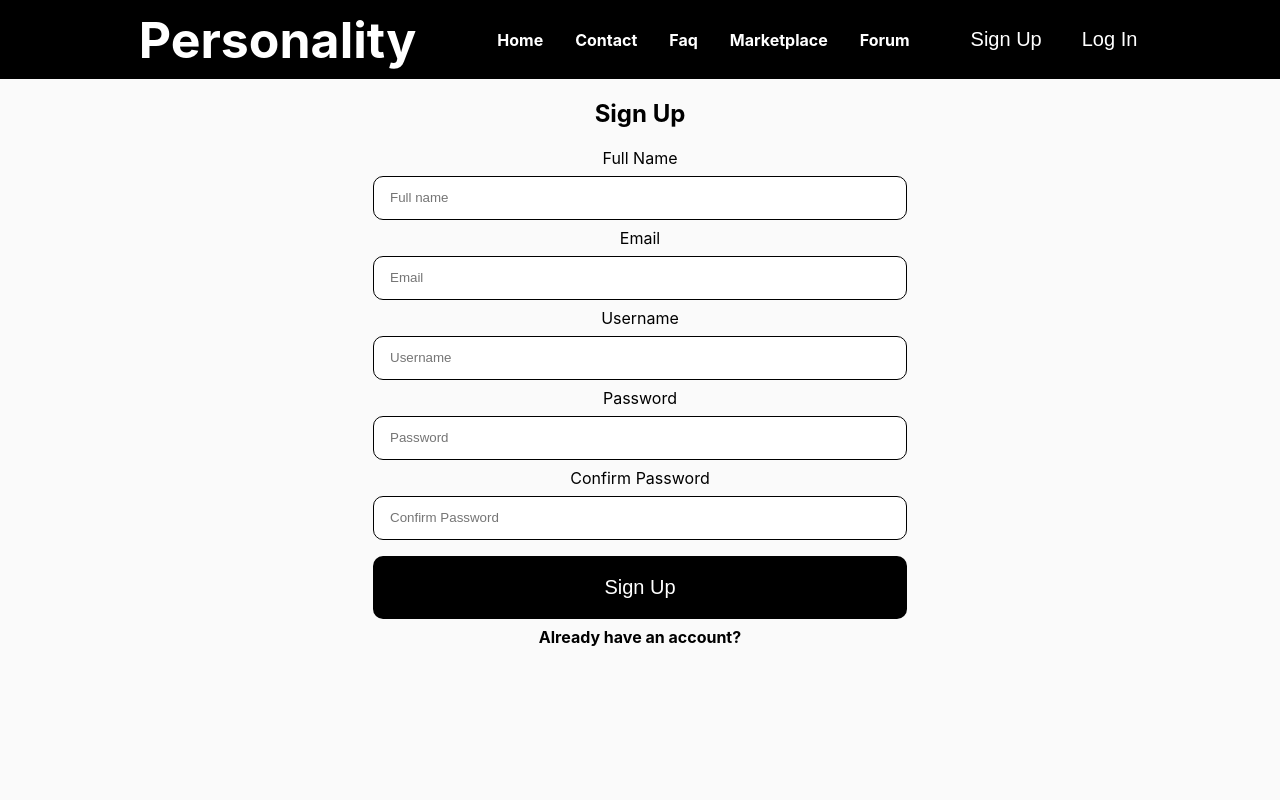
it: Cannot submit username that is too short
Type "John Jefferson II" into the field with test id "signup-fullname" at (640,198), box [373,176,907,220]
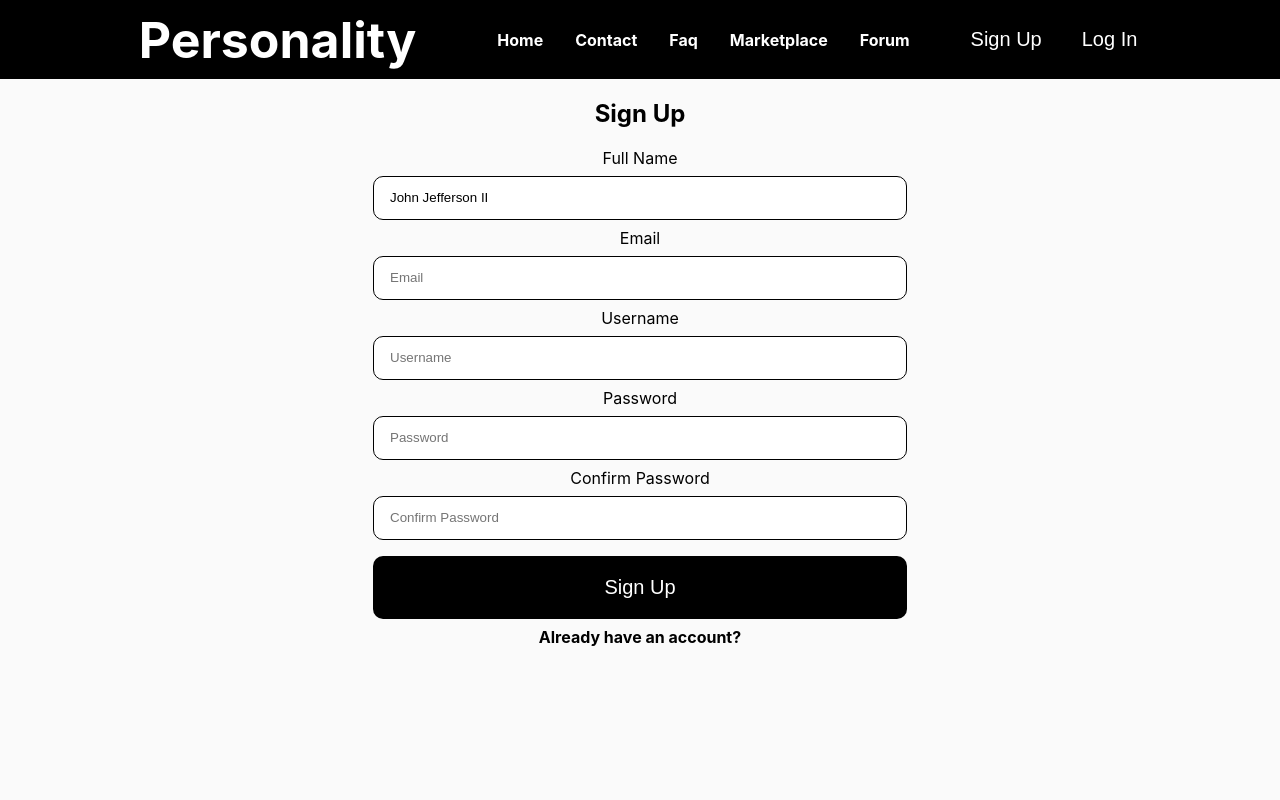
Type "jjettas2@gmail.com" into the field with test id "signup-email" at (640,278), box [373,256,907,300]
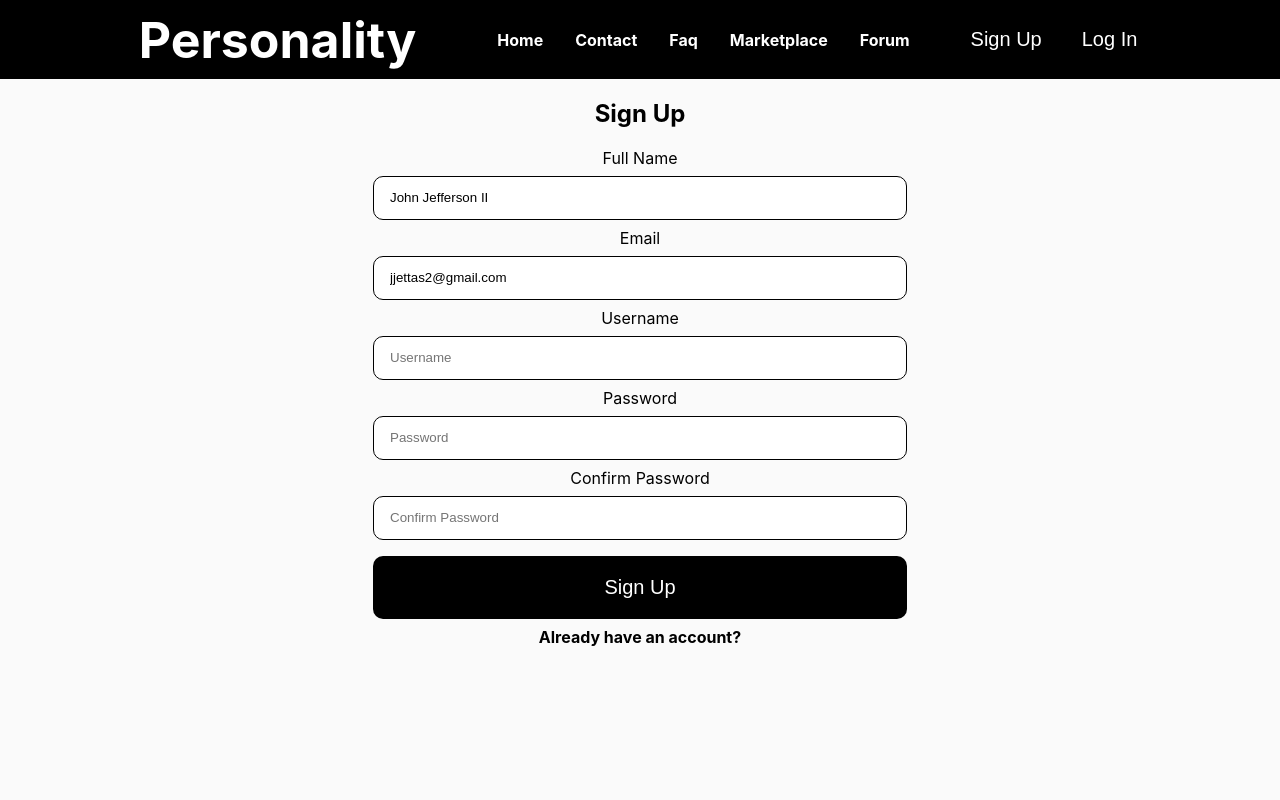
Type "john" into the field with test id "signup-username" at (640,358), box [373,336,907,380]
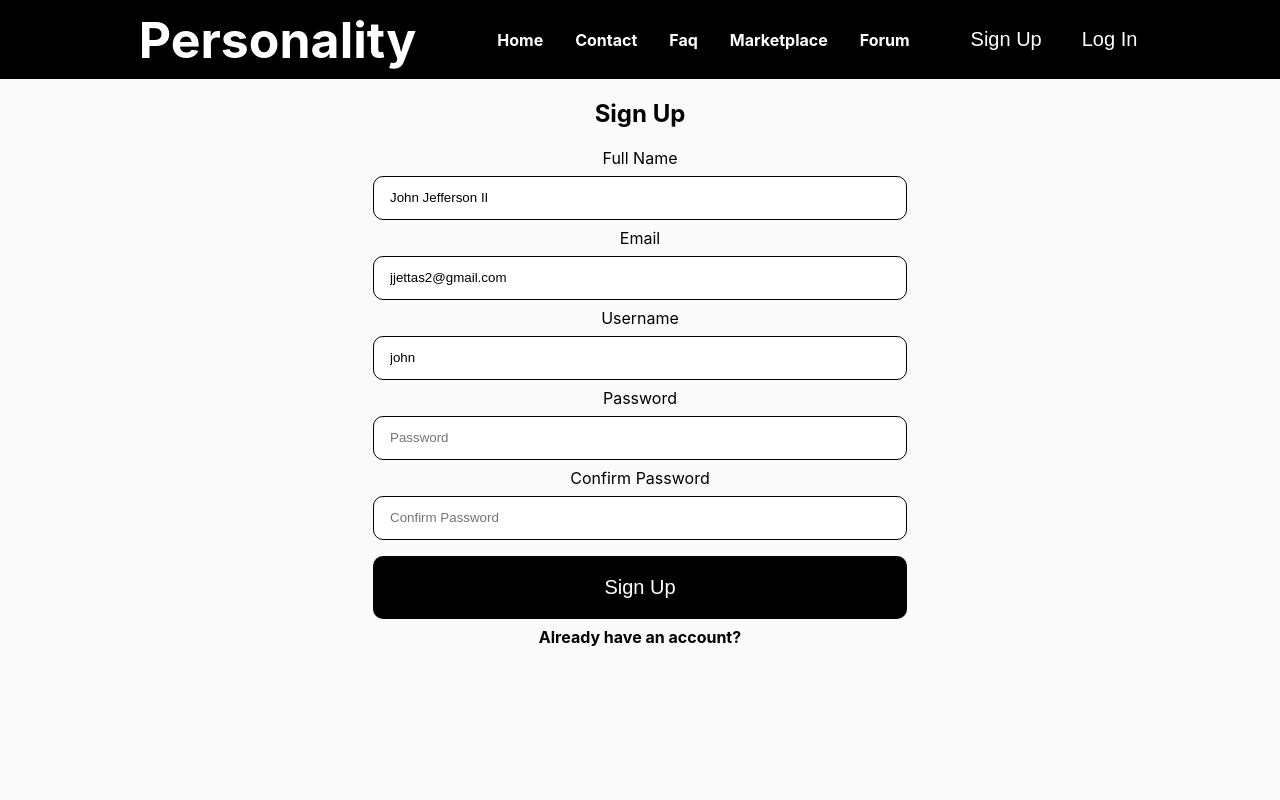
Type "Schwarzkopf23" into the password field with test id "signup-password" at (640,438), box [373,416,907,460]
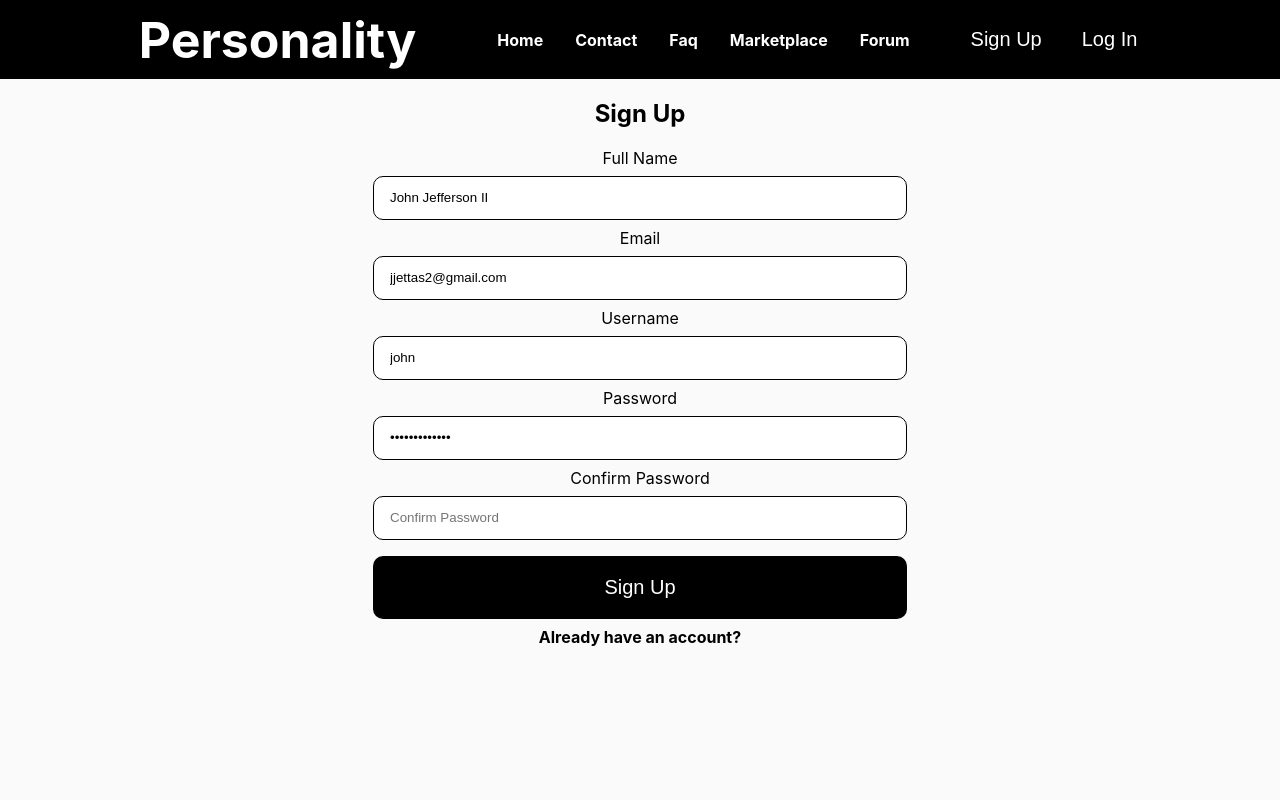
Type "Schwarzkopf23" into the password field with test id "signup-confirmpass" at (640,518), box [373,496,907,540]
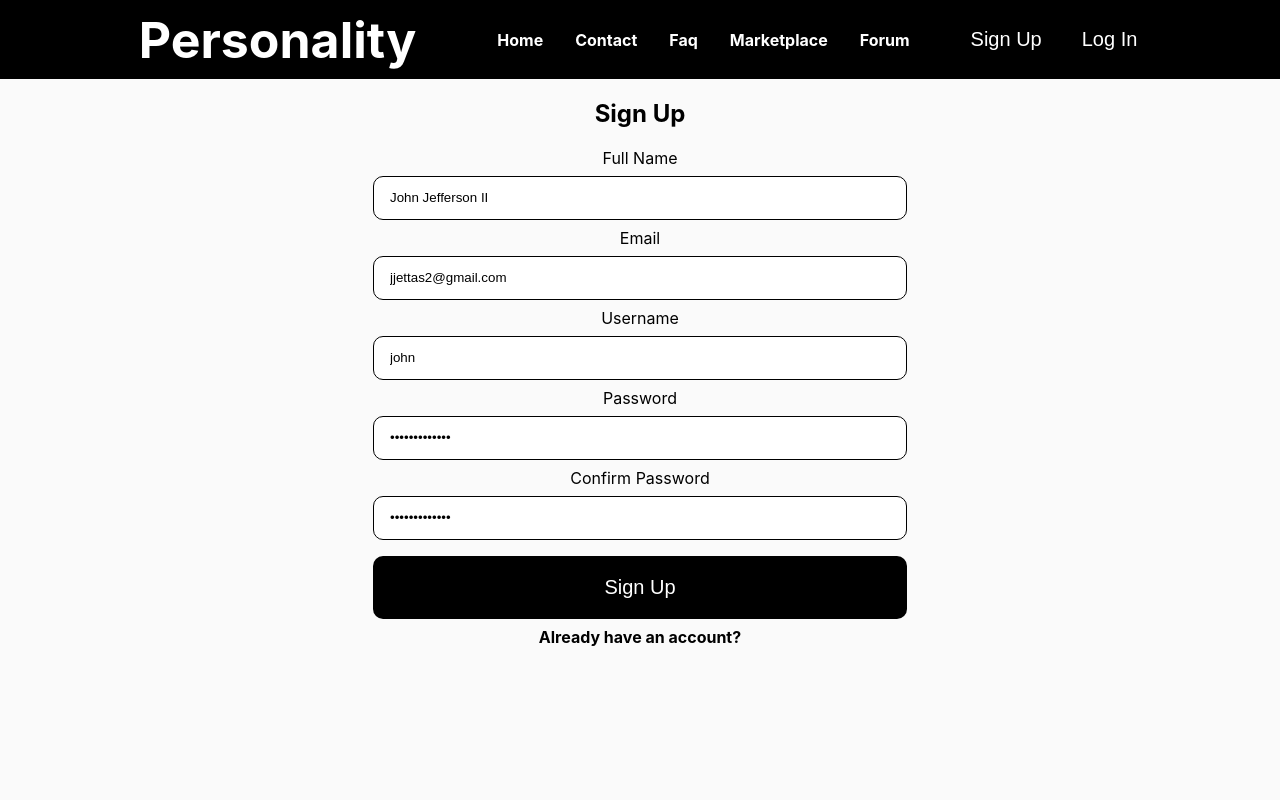
Click the button with test id "signup-submit" at (640,587), box [373,556,907,619]
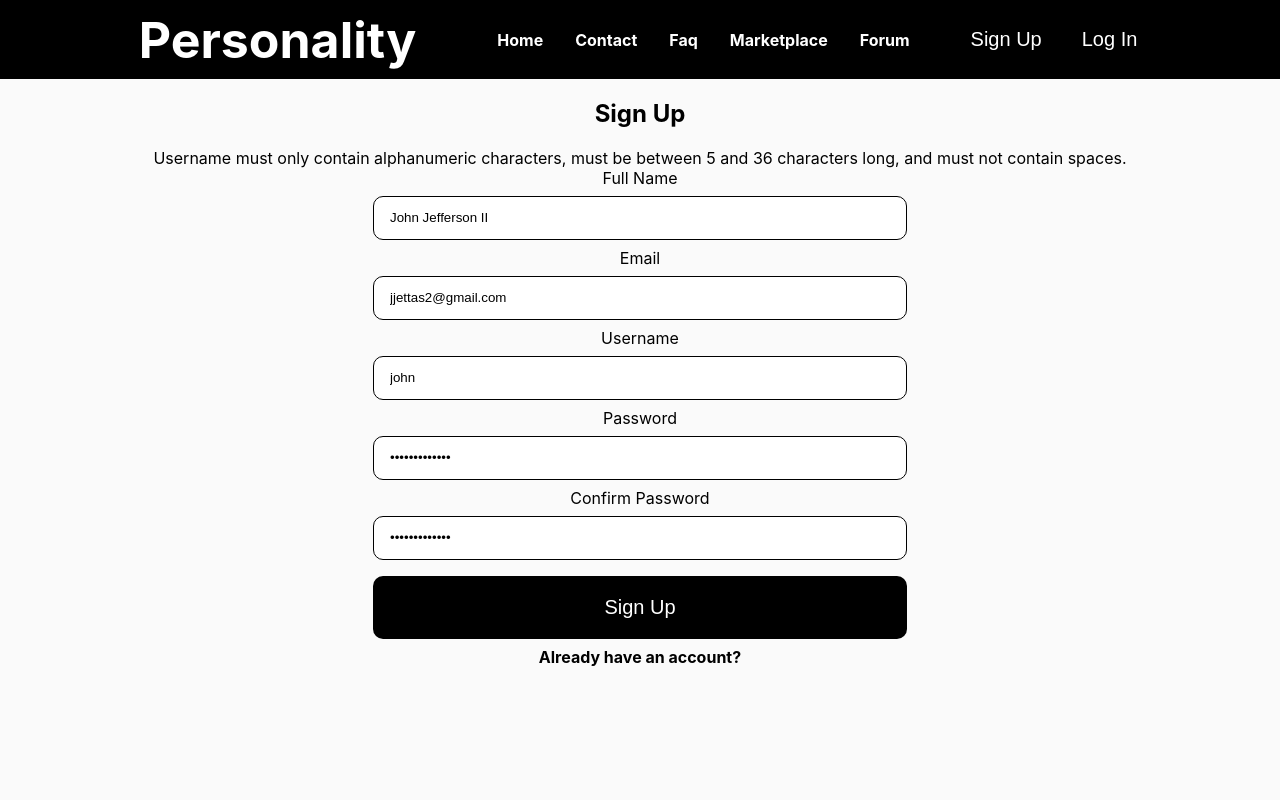
Result: the message shows "Username must only contain alphanumeric characters, must be between 5 and 36 characters long, and must not contain spaces." at [153,148,1126,168]
